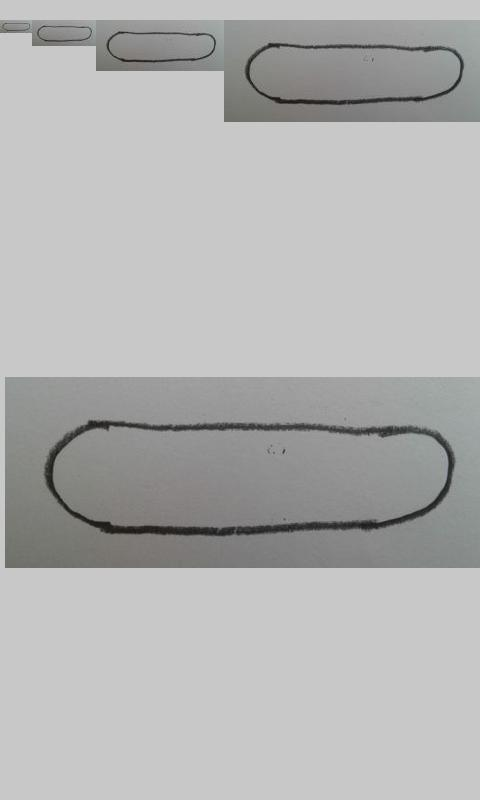chip: (43, 420, 458, 535), (244, 42, 465, 106), (106, 31, 216, 63), (37, 25, 93, 42), (2, 22, 31, 32)
